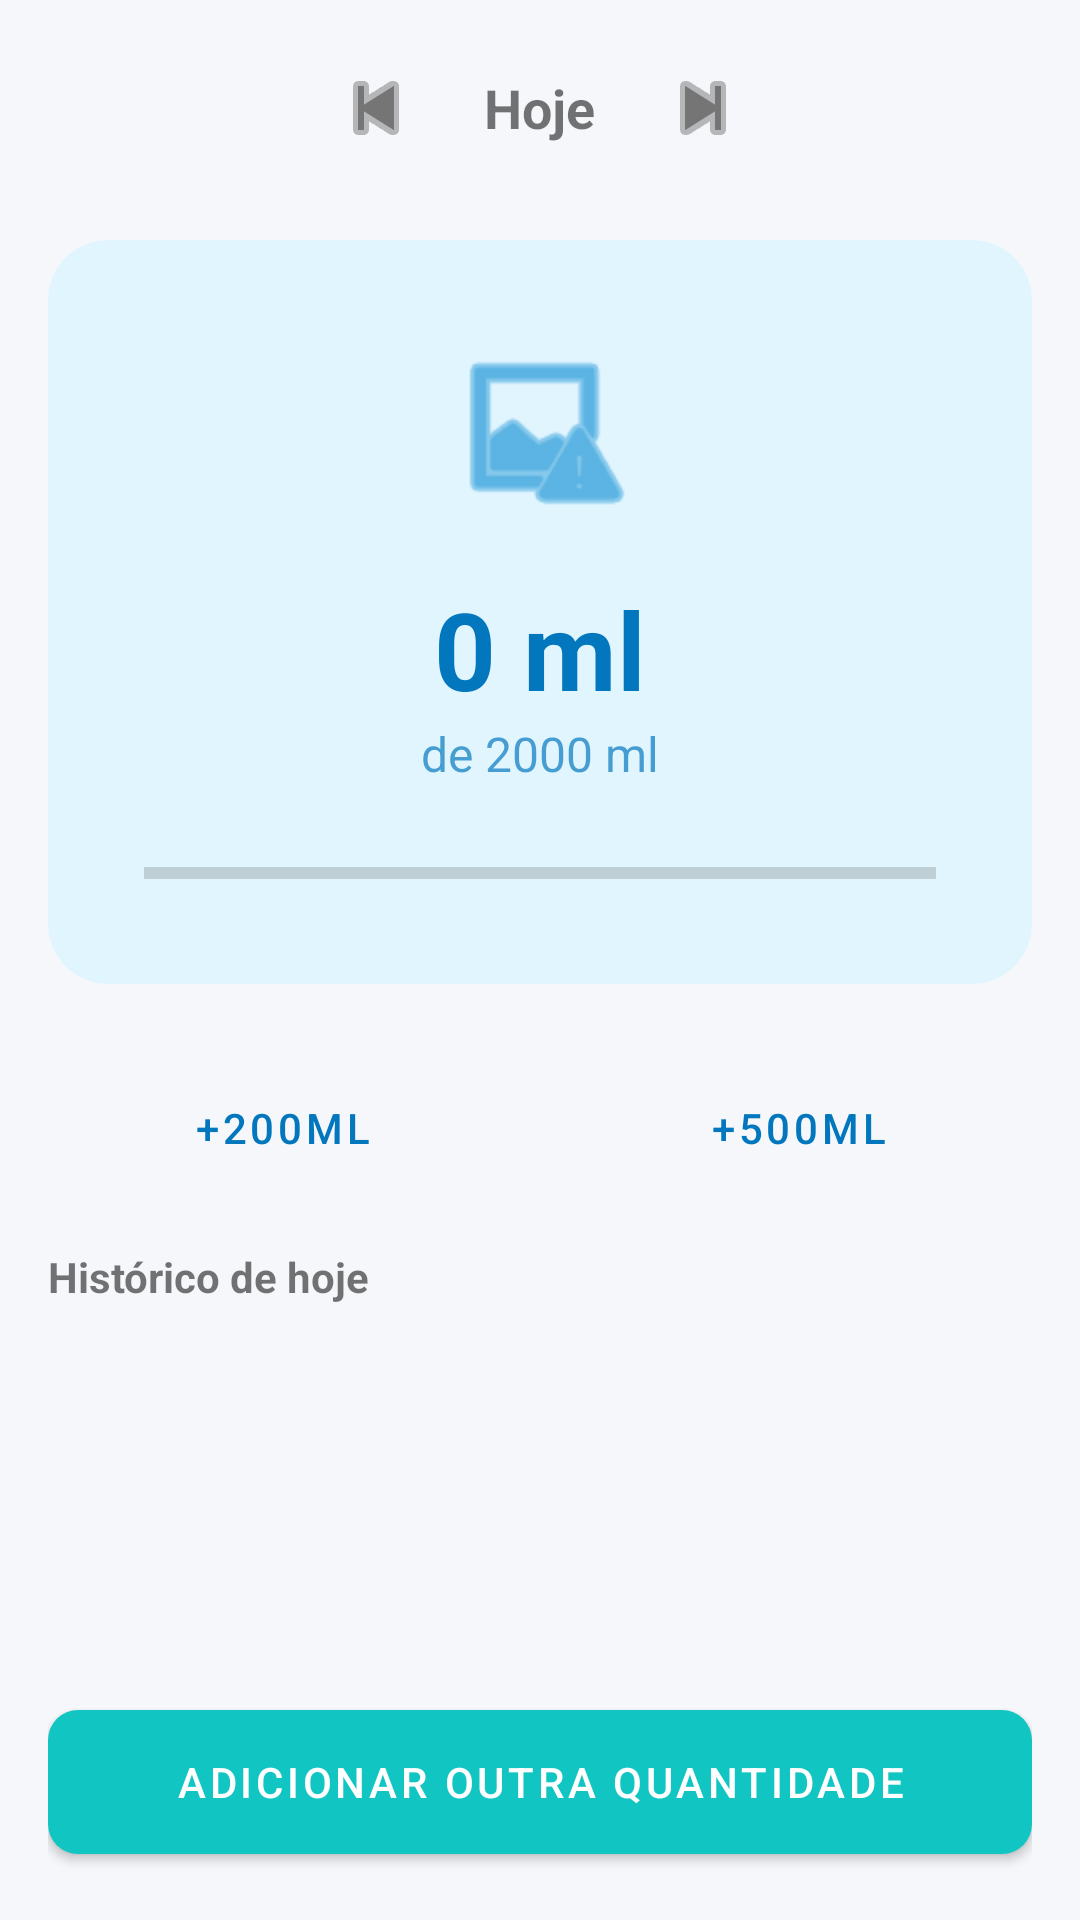

Screen size 1080×1920. Icon name, then its box in pixels as (x1, y1, x2, y2):
next: (680, 81, 726, 135)
previous: (353, 81, 399, 135)
